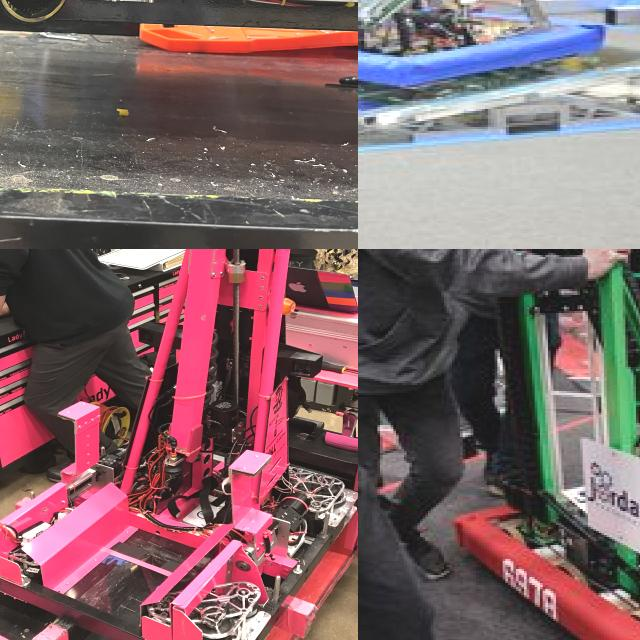FRC-Robots: (0, 249, 347, 640), (358, 249, 640, 640), (358, 0, 603, 83)
